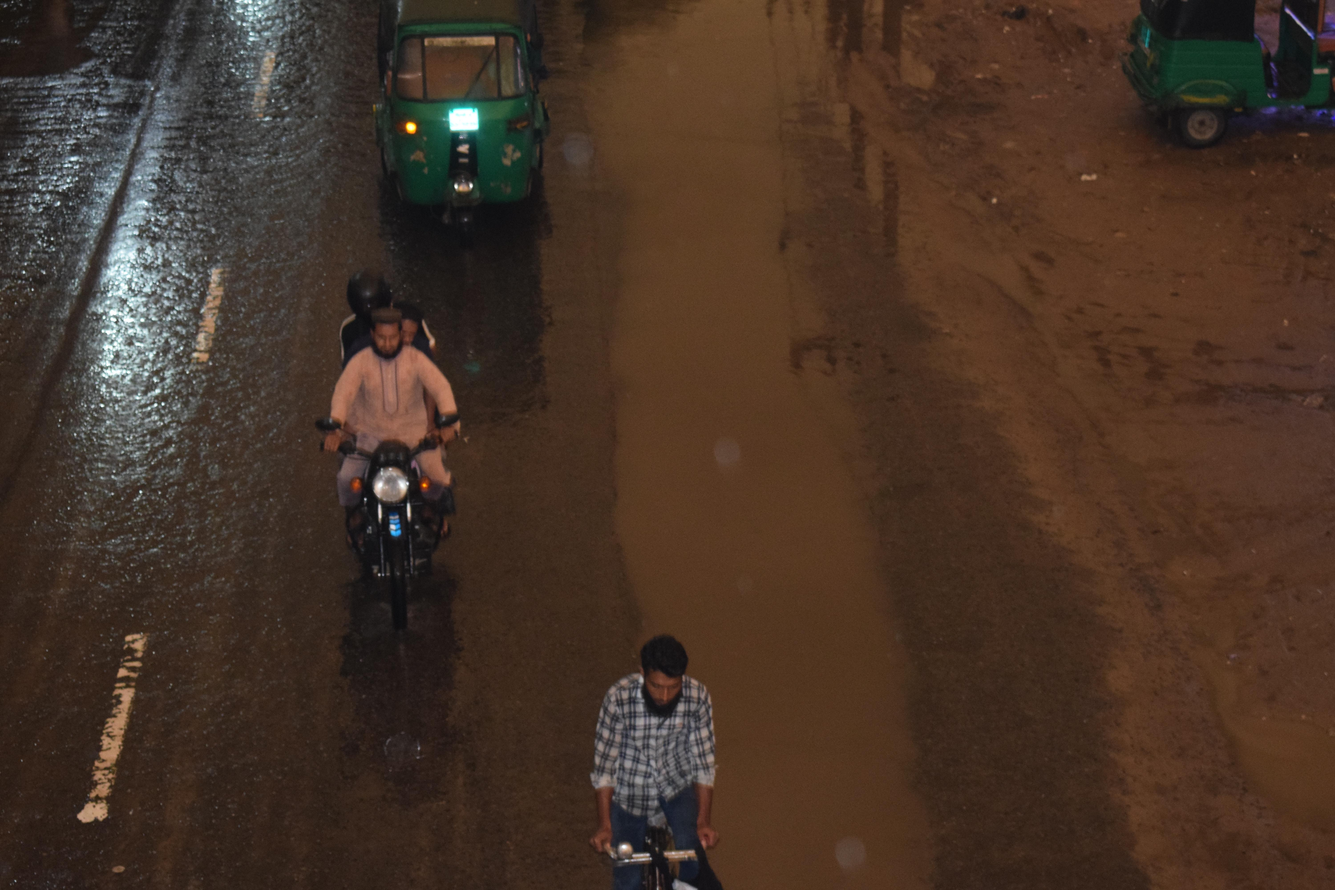Bike: (248, 232, 527, 676)
